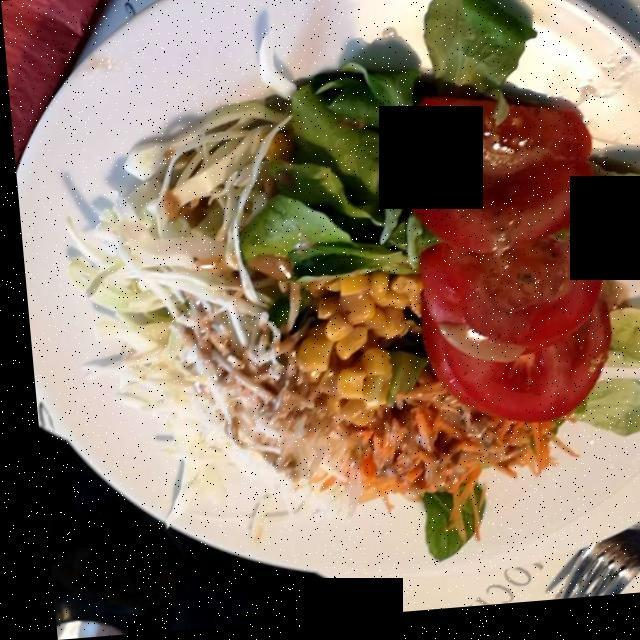salad: (77, 16, 640, 541)
